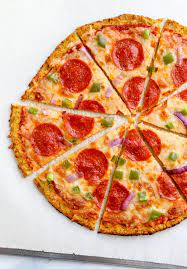pizza: (5, 12, 187, 239)
